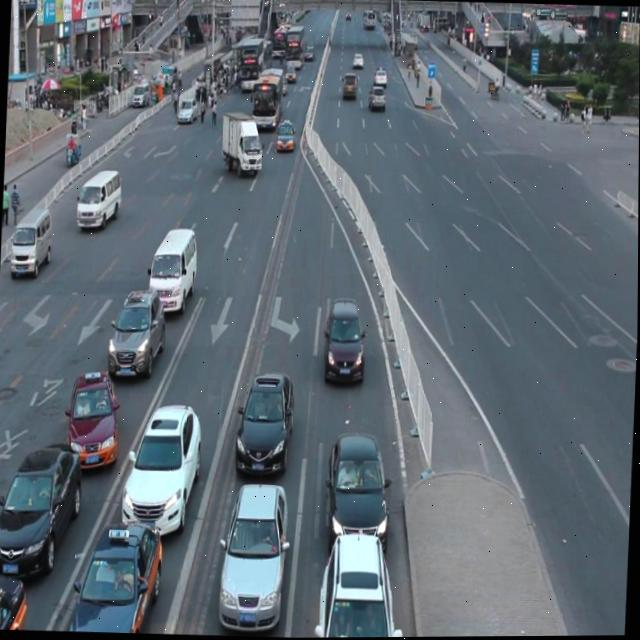bus: (220, 110, 262, 174)
car: (63, 512, 165, 634), (0, 434, 85, 580), (120, 395, 204, 536), (216, 474, 290, 632), (316, 525, 401, 638), (323, 426, 392, 549), (232, 366, 296, 477), (65, 366, 121, 470), (106, 282, 166, 377), (321, 296, 367, 385), (0, 569, 30, 630)
truck: (146, 226, 199, 315), (10, 204, 53, 275), (76, 167, 122, 230)
